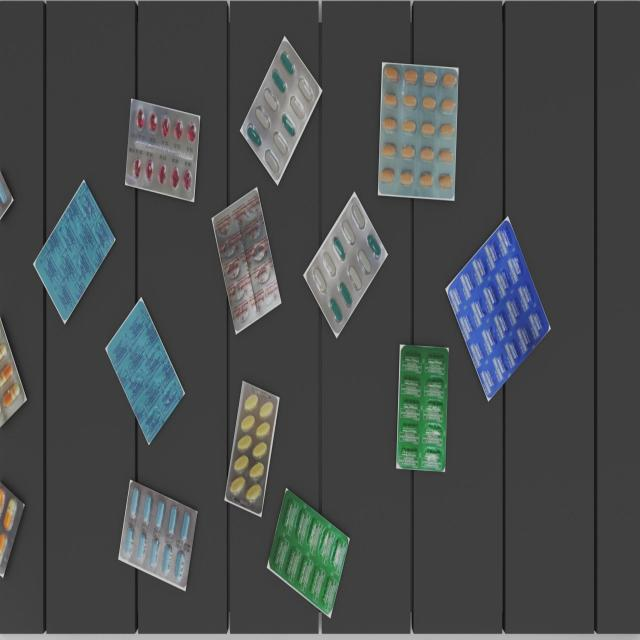blister: (448, 219, 550, 399), (379, 61, 461, 204), (306, 196, 387, 337), (241, 37, 321, 178), (35, 178, 115, 318), (107, 300, 184, 445), (211, 189, 283, 337), (268, 488, 350, 616), (119, 480, 198, 591), (124, 96, 200, 204), (224, 383, 279, 518), (399, 343, 449, 472), (0, 310, 31, 434), (0, 476, 27, 572)
